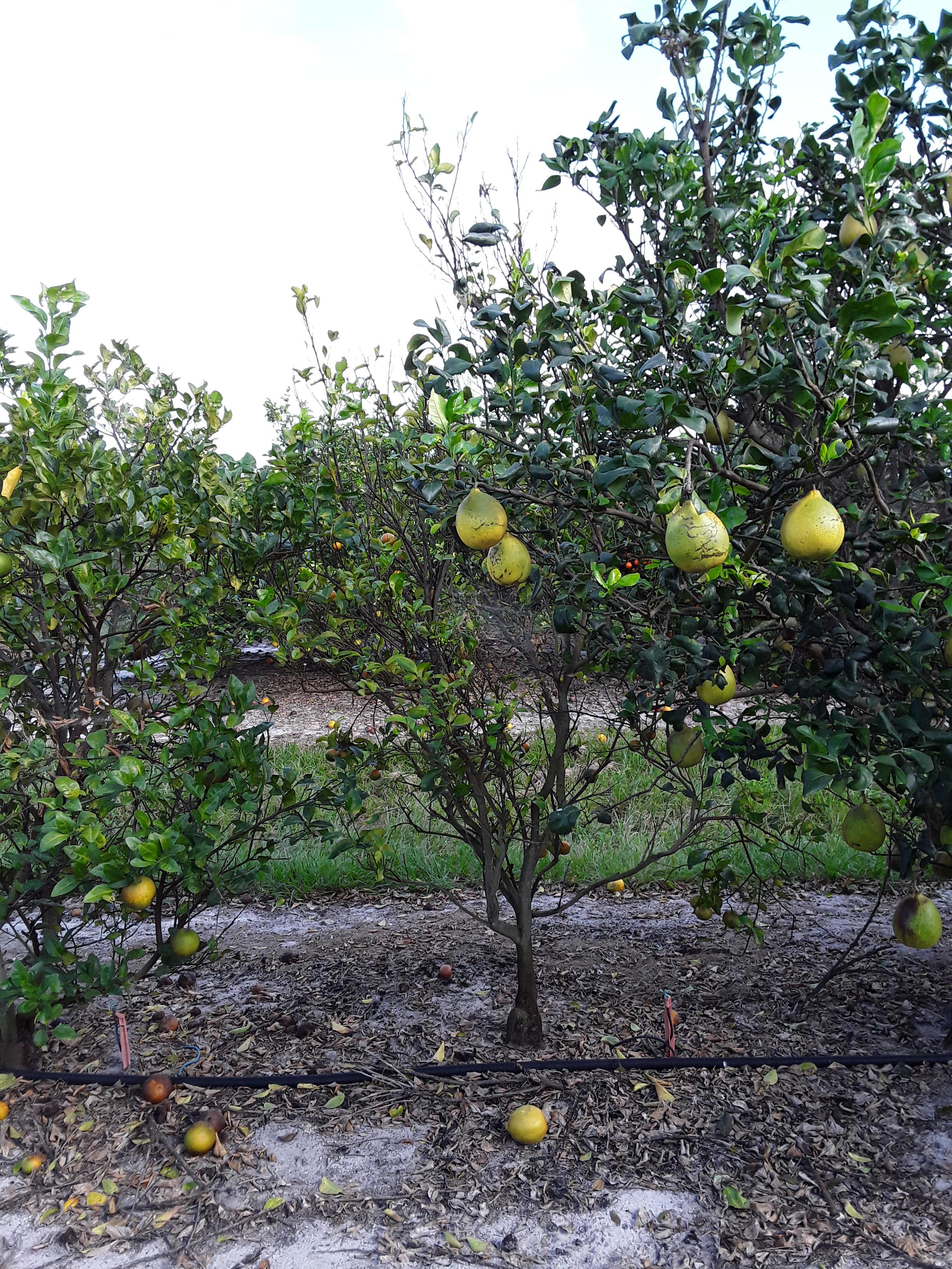fruit_on_ground: (666, 495, 737, 582), (778, 489, 843, 571), (458, 485, 510, 555), (899, 891, 947, 954), (840, 795, 887, 858), (697, 657, 741, 713), (493, 536, 537, 589), (666, 727, 705, 776), (703, 410, 737, 451), (167, 929, 200, 968), (121, 879, 155, 916), (885, 339, 914, 381), (840, 210, 872, 248), (693, 895, 719, 924), (375, 527, 405, 550), (0, 547, 18, 582), (551, 838, 572, 864), (328, 534, 348, 555), (321, 582, 341, 603), (641, 723, 662, 743), (625, 732, 643, 755), (367, 763, 386, 784), (336, 747, 354, 767), (581, 767, 600, 785), (321, 746, 338, 764)
fruit_on_tree: (504, 1101, 551, 1152), (181, 1119, 218, 1157), (146, 1077, 174, 1112), (18, 1149, 46, 1179), (434, 962, 458, 989), (155, 1012, 182, 1036), (602, 874, 626, 898), (725, 909, 745, 931), (0, 1099, 15, 1124)
